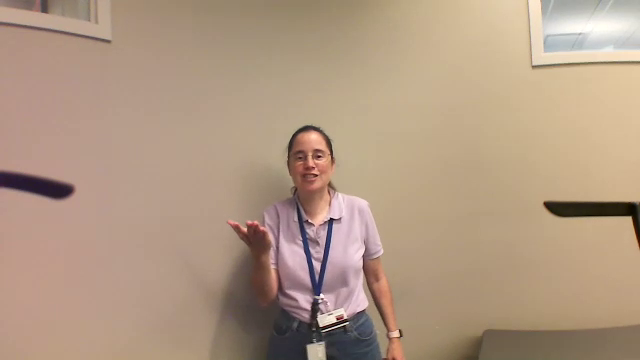land: (214, 208, 280, 258)
